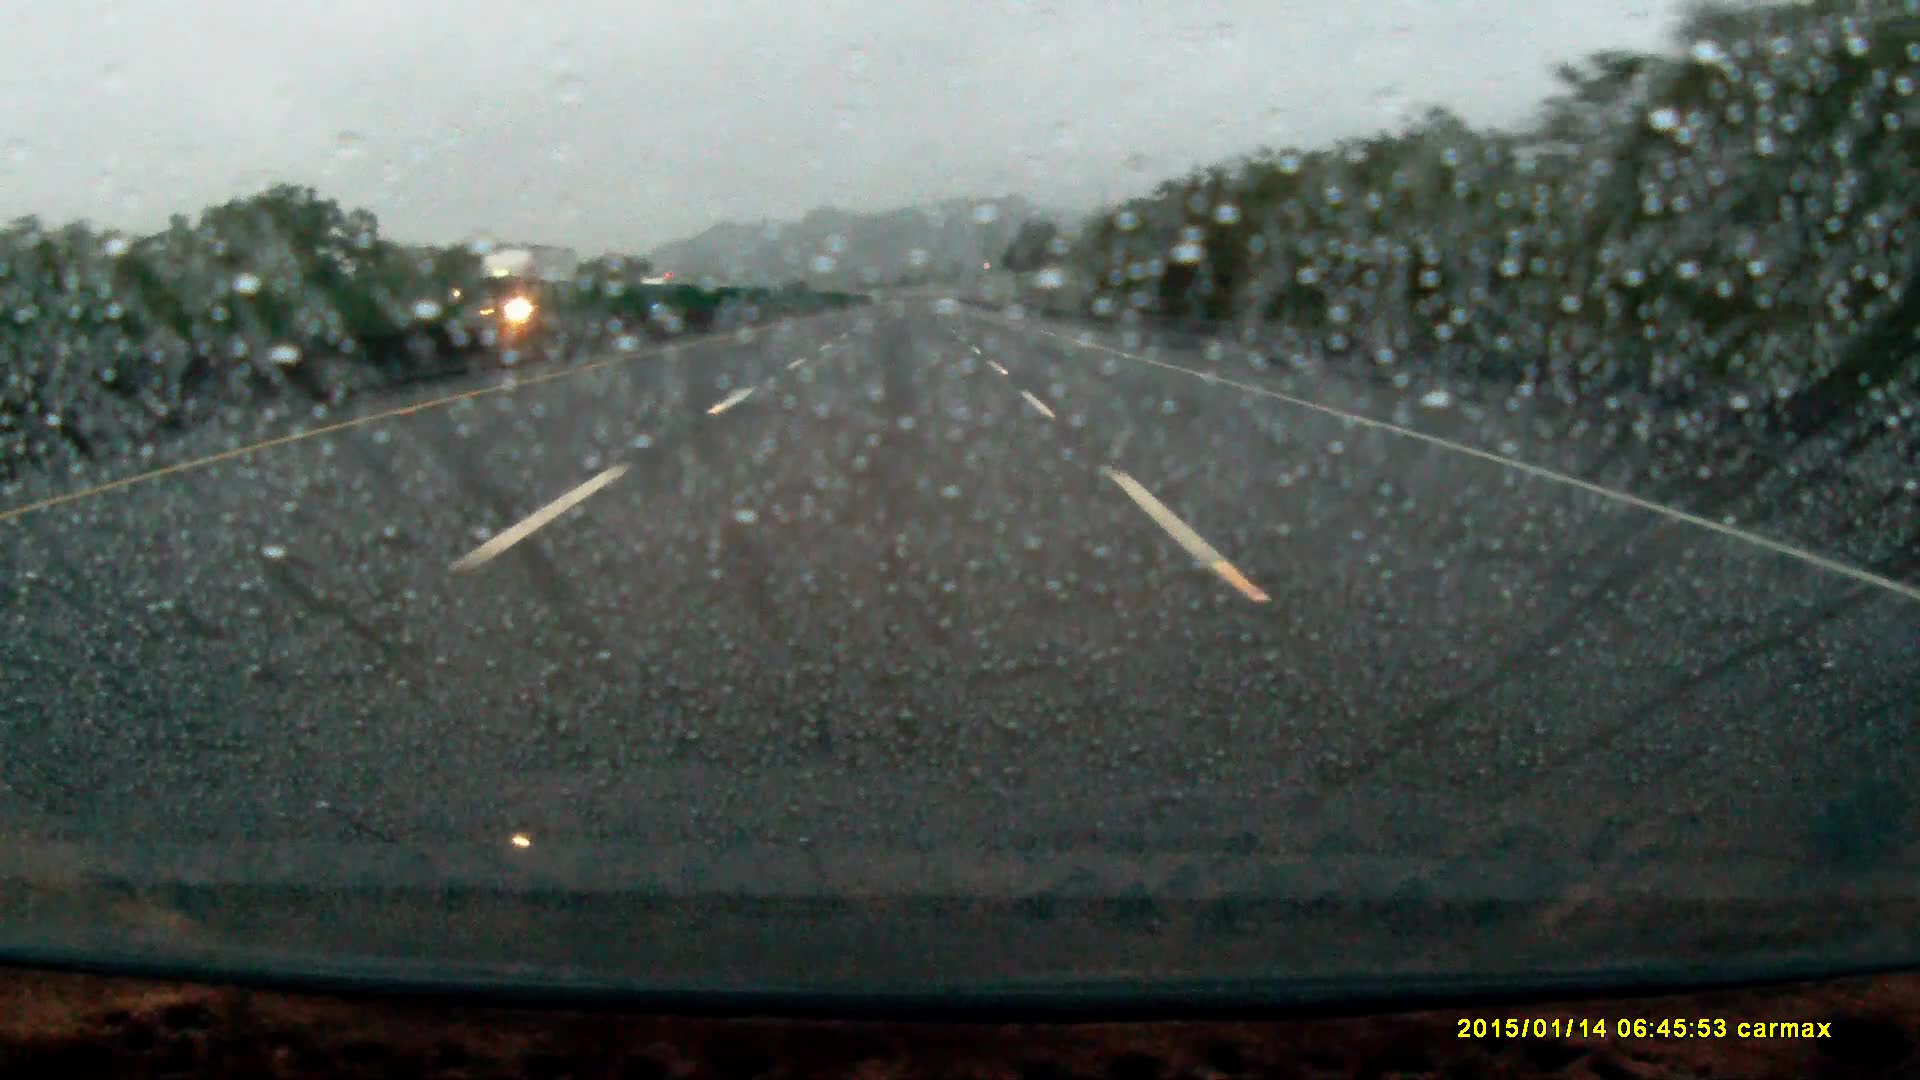vehicle: (477, 247, 597, 343), (642, 278, 688, 313)
